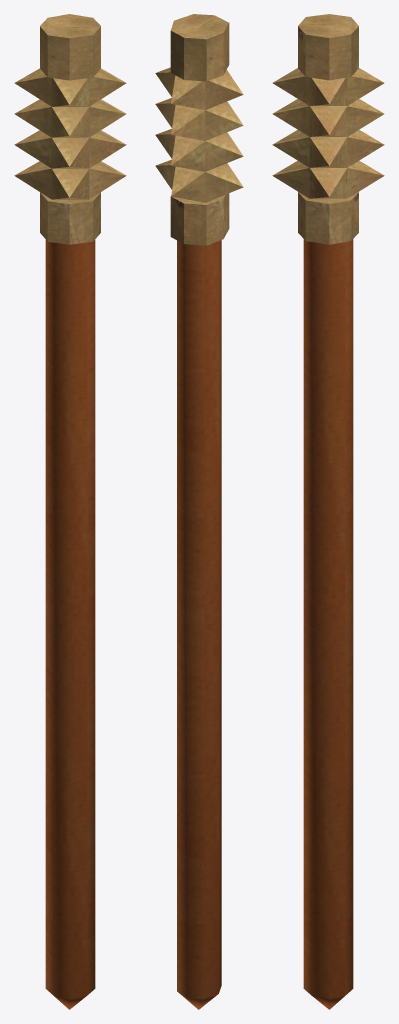
The model's file is ibmace.gltf.
The picture shows the model from 3 angles, left to right: view 1: azimuth 90°, elevation 25°; view 2: azimuth 150°, elevation 25°; view 3: azimuth 270°, elevation 25°; orthographic projection.
Visible parts, largest first — view 1: Mace; view 2: Mace; view 3: Mace.
Boxes of the visible parts, left/top/right/bottom form: Mace: left=14, top=14, right=126, bottom=1009; Mace: left=155, top=14, right=243, bottom=1009; Mace: left=272, top=14, right=384, bottom=1009.
Size of the model in its own units: 0.0832 by 0.8832 by 0.0916.
Materials: 3 (3 with a texture image).
